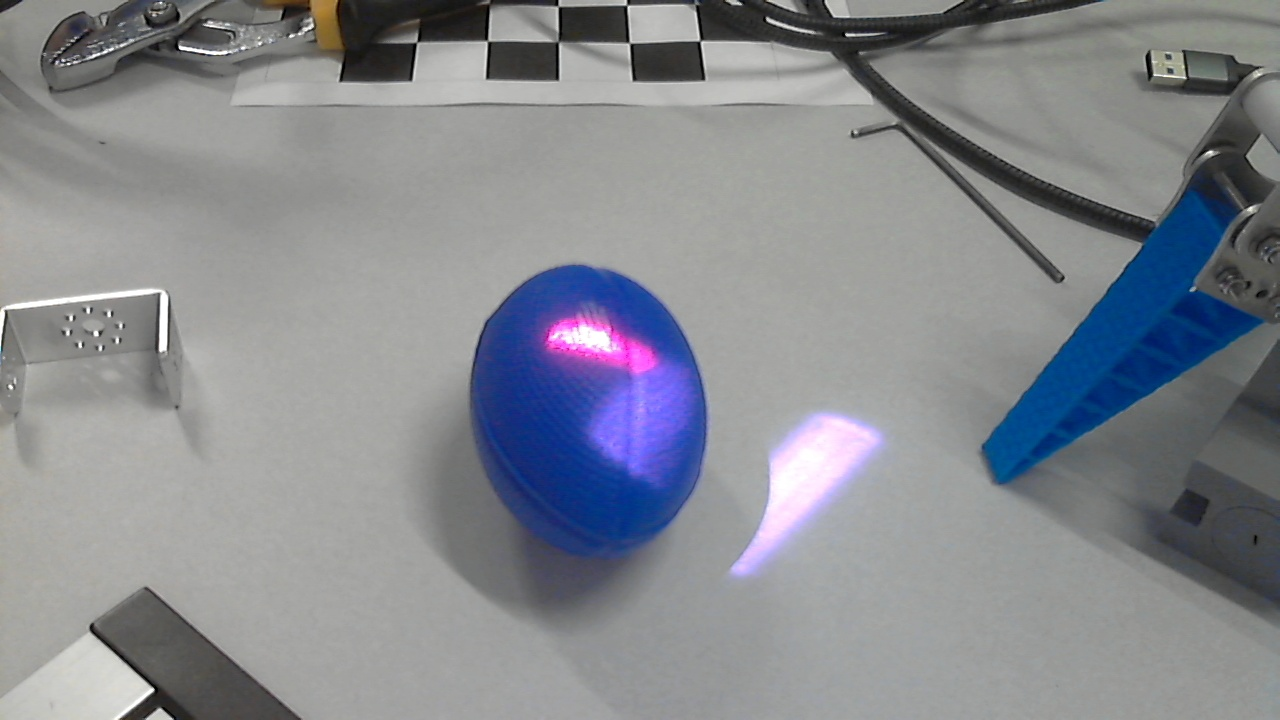Object toy football - Material foam - Color blue - Pdfname VT1ffZoLOnKv: (534, 278, 664, 404)
